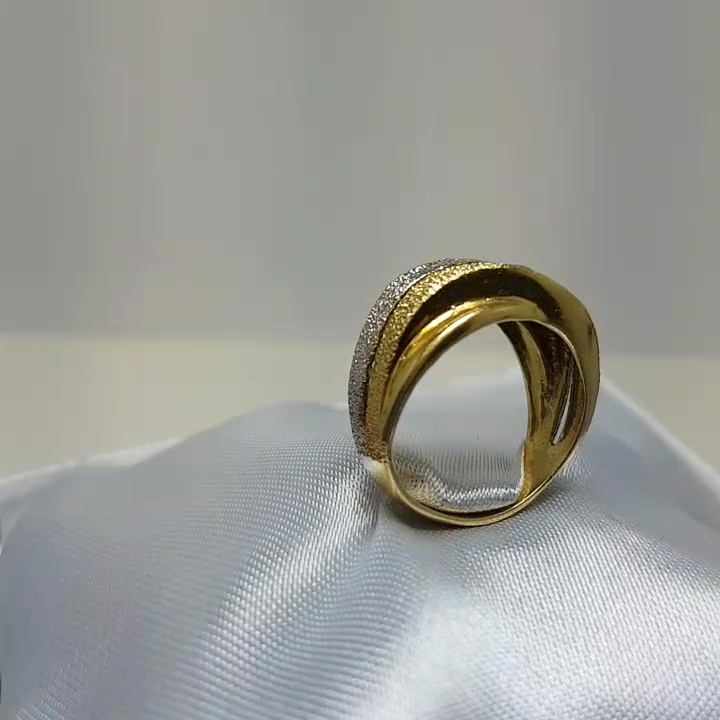Ring 5: (339, 237, 623, 587)
